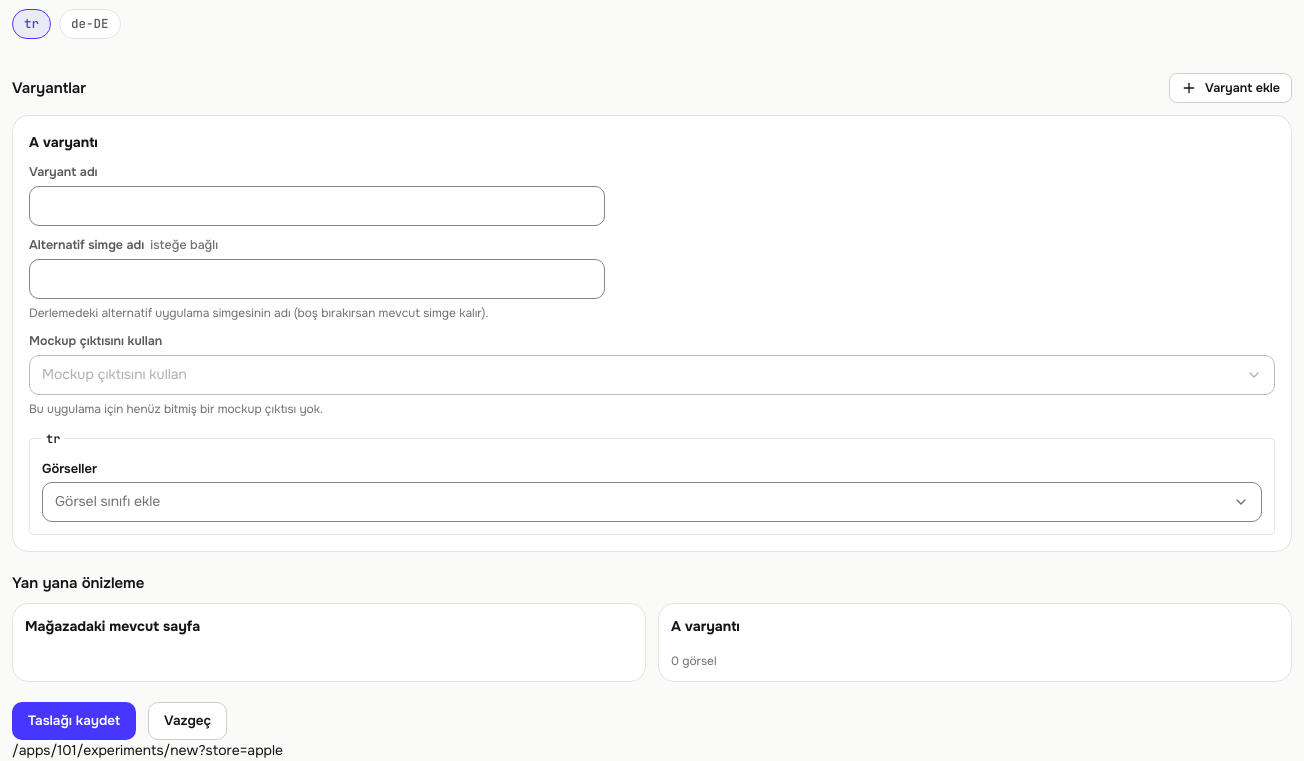
Test: ExperimentWizardPage › shows what is missing and sends nothing
The image size is (1304, 761).
(page scrolled)
Click the button "Taslağı kaydet". click: click(74, 721)
box: [12,702,136,740]
(page scrolled)
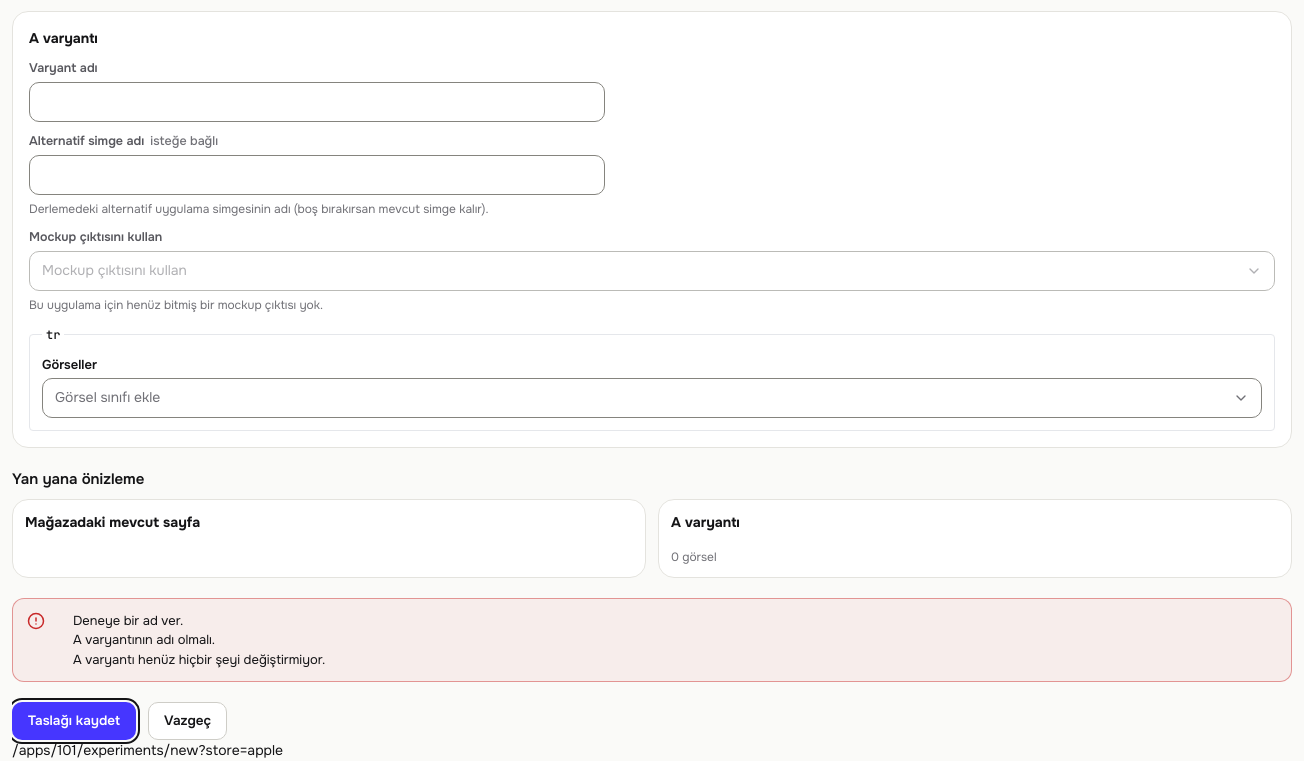
Now the list item "Deneye bir ad ver." is shown, box [73,612,183,629]
Now the list item "A varyantının adı olmalı." is shown, box [73,631,215,648]
Now the list item "A varyantı henüz hiçbir şeyi değiştirmiyor." is shown, box [73,650,325,669]
